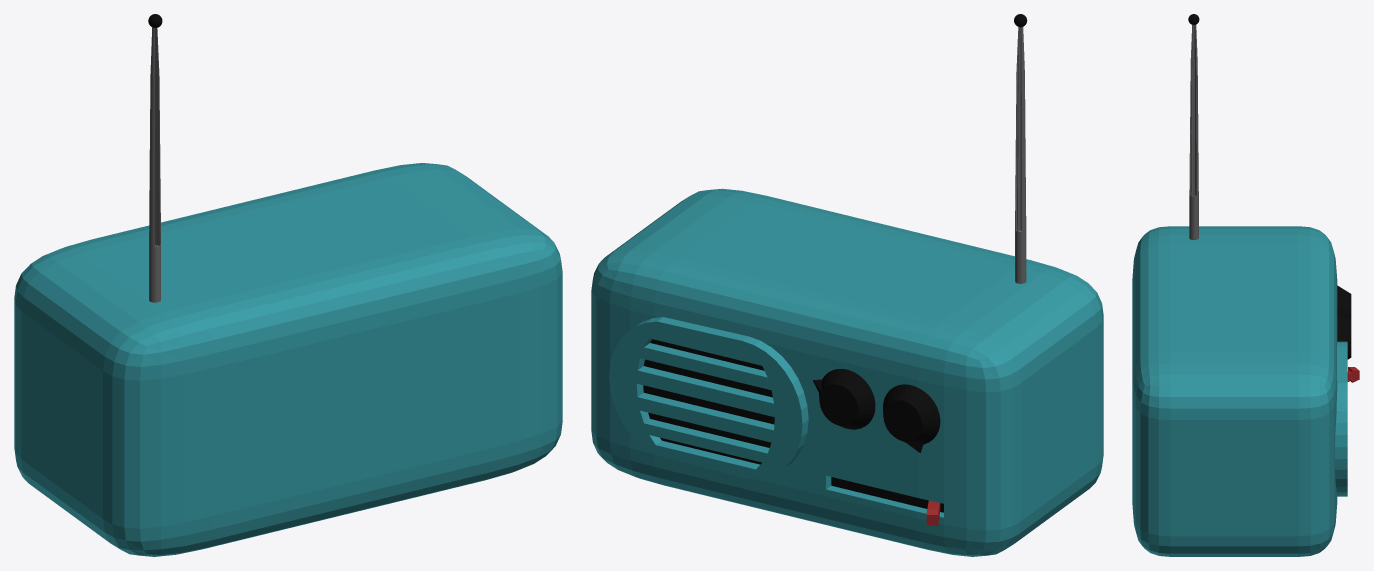
Rendered from Retro Radio.obj.
3 views of the same model, side by side, from view 1: azimuth 30°, elevation 25°; view 2: azimuth 150°, elevation 25°; view 3: azimuth 270°, elevation 25° (orthographic). The views are drawn at different scales.
Visible parts, largest first — view 1: RetroRadio_Cylinder.001; view 2: RetroRadio_Cylinder.001; view 3: RetroRadio_Cylinder.001.
Part boxes in pixels (x1,y1,x2,y2): RetroRadio_Cylinder.001: [14, 14, 562, 556]; RetroRadio_Cylinder.001: [591, 14, 1103, 556]; RetroRadio_Cylinder.001: [1132, 14, 1359, 556].
Size of the model in its own units: 4 by 4.41 by 2.22.
